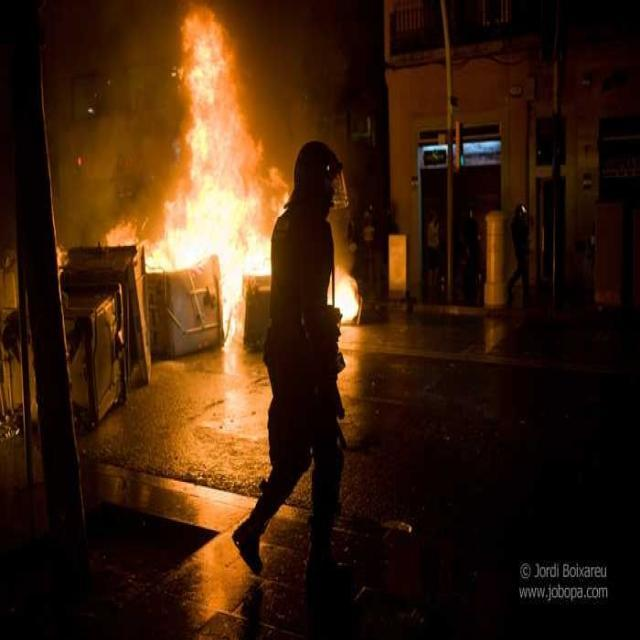Fire: (192, 59, 229, 192), (186, 197, 239, 256)
